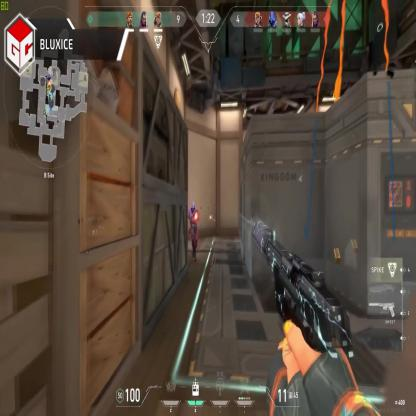enemy: (187, 202, 200, 261)
enemy_head: (191, 203, 195, 211)
